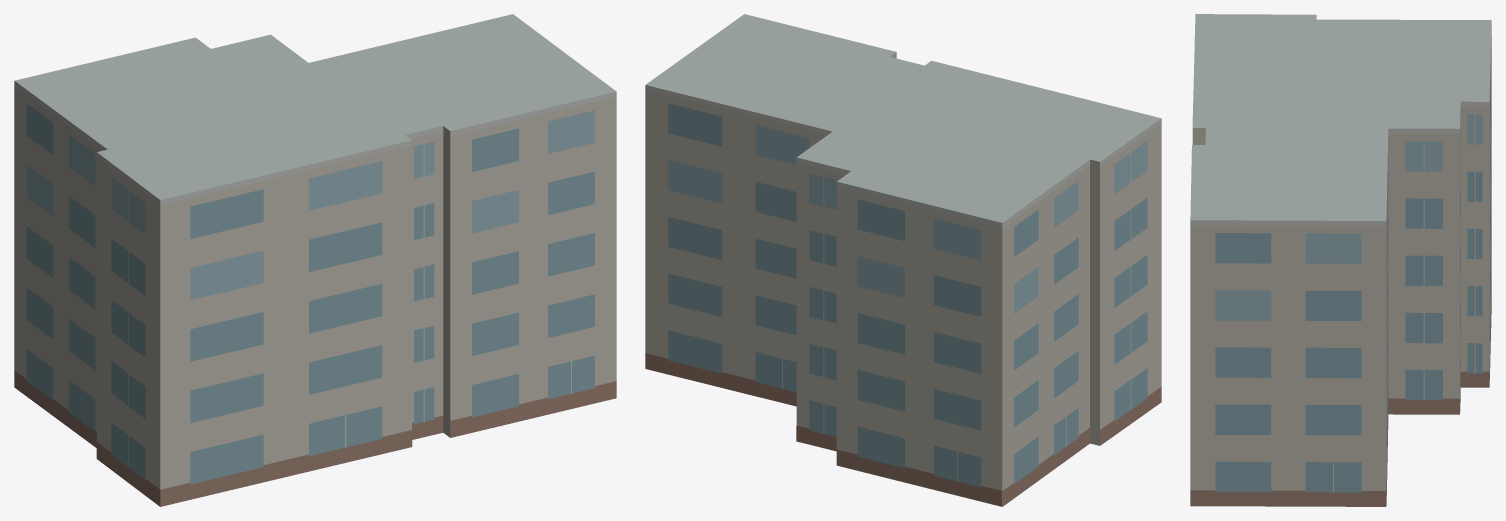
Rendered from survey-upis-32971009.glb.
3 views of the same model, side by side, from view 1: azimuth 30°, elevation 25°; view 2: azimuth 150°, elevation 25°; view 3: azimuth 270°, elevation 25° (orthographic). The views are drawn at different scales.
Visible parts, largest first — view 1: survey-upis-32971009.tmp; view 2: survey-upis-32971009.tmp; view 3: survey-upis-32971009.tmp.
Part boxes in pixels (x1,y1,x2,y2): survey-upis-32971009.tmp: (14, 14, 616, 506); survey-upis-32971009.tmp: (645, 14, 1161, 506); survey-upis-32971009.tmp: (1190, 14, 1491, 506).
Bounding box in the file's own units: 22.14 × 14.25 × 13.62.
